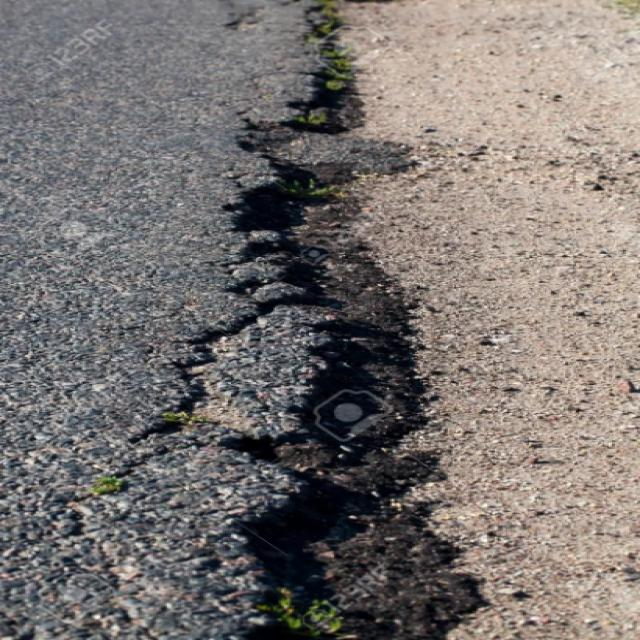Pothole: (167, 15, 621, 640)
